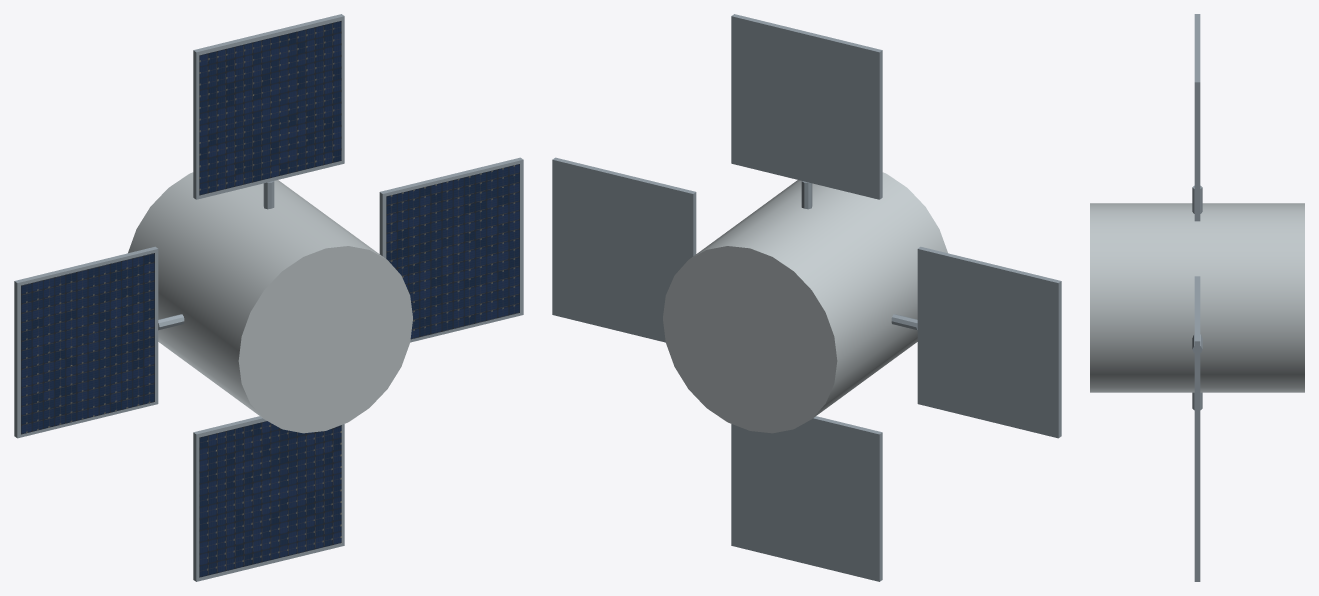
Rendered from ref-csbus-43807.glb.
The picture shows the model from 3 angles, left to right: view 1: azimuth 30°, elevation 25°; view 2: azimuth 150°, elevation 25°; view 3: azimuth 270°, elevation 25°; orthographic projection. The views are drawn at different scales.
Parts seen in each view (by area): view 1: Photovoltaic laminates (×4), Spacecraft body, Array frame (×4); view 2: Array frame (×4), Spacecraft body; view 3: Spacecraft body, Array frame (×3).
Boxes of the visible parts, left/top/right/bottom form: Photovoltaic laminates (×4): left=21, top=21, right=519, bottom=577; Spacecraft body: left=128, top=172, right=412, bottom=433; Array frame (×4): left=14, top=14, right=523, bottom=581; Array frame (×4): left=552, top=14, right=1061, bottom=581; Spacecraft body: left=663, top=172, right=947, bottom=433; Spacecraft body: left=1090, top=203, right=1304, bottom=392; Array frame (×3): left=1194, top=14, right=1200, bottom=581.
Size of the model in its own units: 2.9 by 2.9 by 1.13.
Materials: 3 (1 with a texture image).
